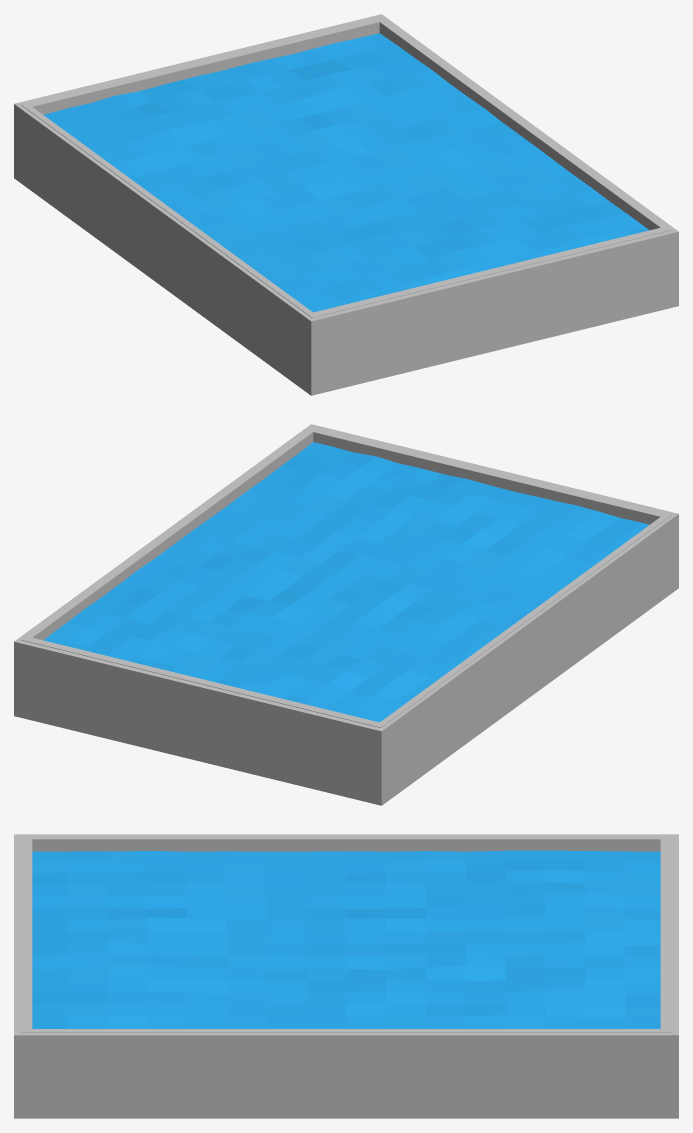
The model's file is SM_SwimmingPool_03_A.gltf.
The picture shows the model from 3 angles, top to bottom: view 1: azimuth 30°, elevation 25°; view 2: azimuth 150°, elevation 25°; view 3: azimuth 270°, elevation 25°; orthographic projection. The views are drawn at different scales.
Parts seen in each view (by area): view 1: SwimmingPoolWater_03_A, SwimmingPool_03_A; view 2: SwimmingPoolWater_03_A, SwimmingPool_03_A; view 3: SwimmingPoolWater_03_A, SwimmingPool_03_A.
Part boxes in pixels (bbox=[...]): SwimmingPoolWater_03_A: bbox=[44, 33, 649, 312]; SwimmingPool_03_A: bbox=[14, 14, 678, 395]; SwimmingPoolWater_03_A: bbox=[43, 442, 649, 722]; SwimmingPool_03_A: bbox=[14, 424, 678, 805]; SwimmingPoolWater_03_A: bbox=[32, 850, 660, 1028]; SwimmingPool_03_A: bbox=[14, 834, 678, 1118].
Size of the model in its own units: 10 by 1.95 by 14.
